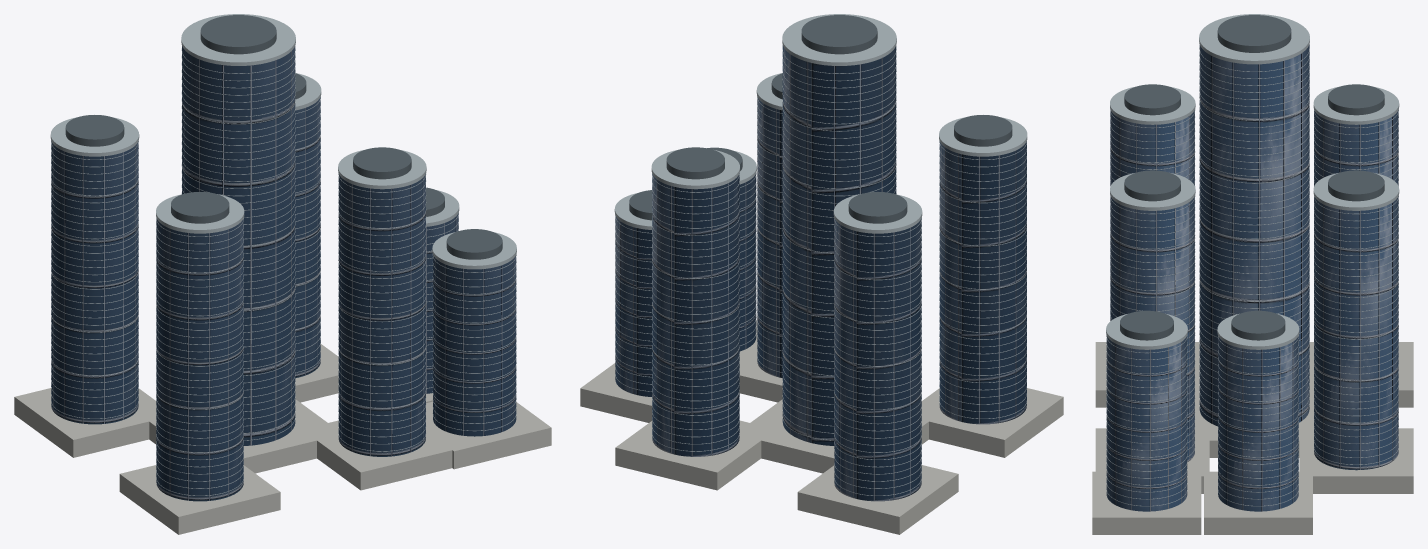
Rendered from renaissance-center.glb.
3 views of the same model, side by side, from view 1: azimuth 30°, elevation 25°; view 2: azimuth 150°, elevation 25°; view 3: azimuth 270°, elevation 25° (orthographic). The views are drawn at different scales.
Parts seen in each view (by area): view 1: RenCen tower 0, Floor band, Tower podium, Mechanical roof; view 2: RenCen tower 0, Floor band, Tower podium, Mechanical roof; view 3: RenCen tower 0, Floor band, Tower podium, Mechanical roof.
Boxes of the visible parts, x1,y1,x2,y2 form: RenCen tower 0: (51, 46, 516, 501); Floor band: (50, 14, 516, 495); Tower podium: (14, 344, 551, 534); Mechanical roof: (65, 15, 502, 259); RenCen tower 0: (615, 45, 1026, 501); Floor band: (614, 14, 1027, 495); Tower podium: (580, 320, 1063, 534); Mechanical roof: (629, 15, 1012, 223); RenCen tower 0: (1106, 44, 1398, 511); Floor band: (1106, 14, 1399, 506); Tower podium: (1092, 342, 1413, 534); Mechanical roof: (1120, 15, 1384, 340).
Bounding box in the file's own units: 216 × 228 × 167.
Materials: 4 (1 with a texture image).
